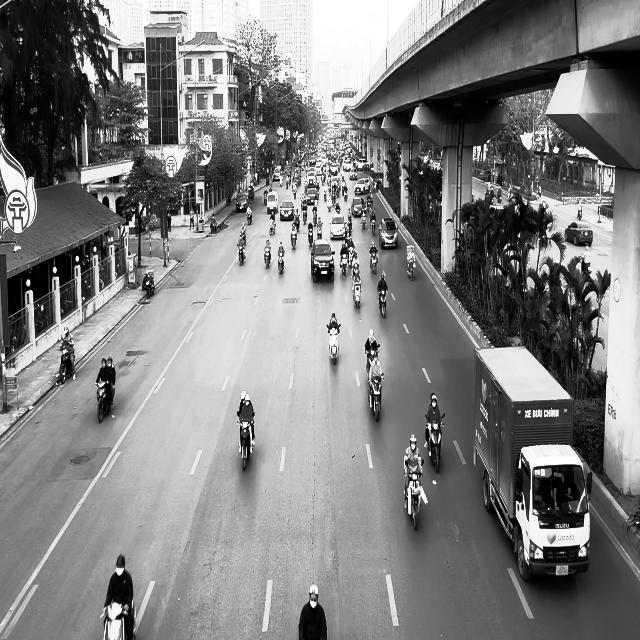car: (310, 239, 335, 283), (565, 221, 593, 245), (378, 217, 398, 249), (330, 214, 347, 239), (280, 200, 294, 220), (236, 192, 248, 212)
motorbike: (404, 458, 424, 530), (424, 412, 444, 473), (237, 413, 254, 471), (95, 380, 114, 422), (368, 373, 384, 422), (58, 348, 76, 384), (326, 322, 340, 364), (142, 270, 155, 298), (377, 288, 387, 317), (352, 280, 361, 308), (237, 240, 246, 265), (369, 250, 378, 274), (407, 258, 415, 281), (264, 247, 271, 269), (290, 229, 297, 249), (269, 214, 276, 234), (278, 252, 284, 274)
truck: (473, 344, 592, 582)
